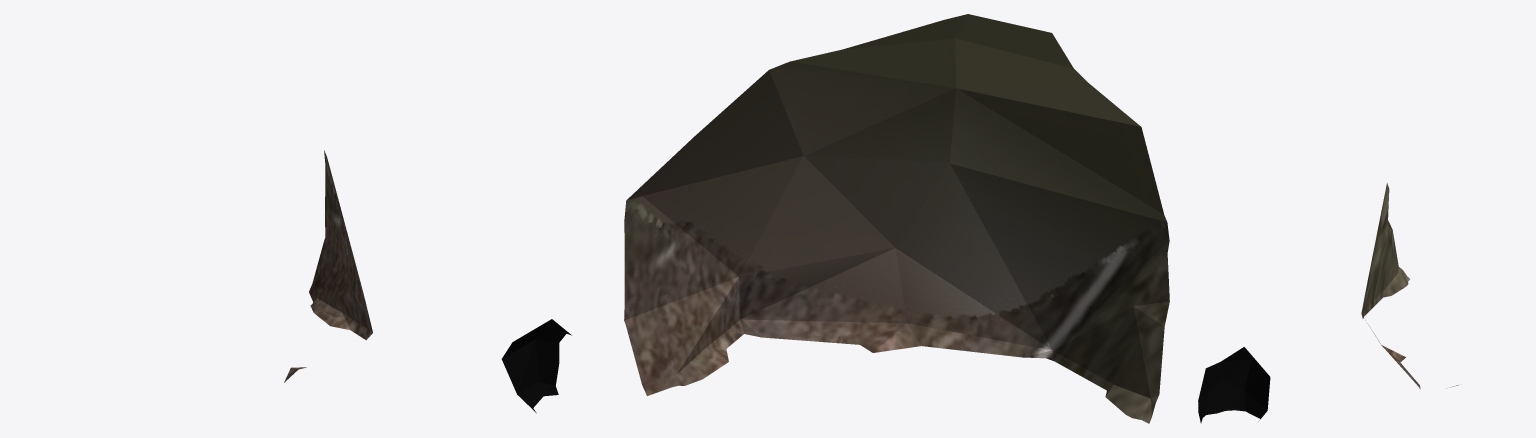
The picture shows the model from 3 angles, left to right: view 1: azimuth 30°, elevation 25°; view 2: azimuth 150°, elevation 25°; view 3: azimuth 270°, elevation 25°; orthographic projection. The views are drawn at different scales.
Size of the model in its own units: 2.95 by 2.52 by 2.78.
2 materials, 2 textured.
